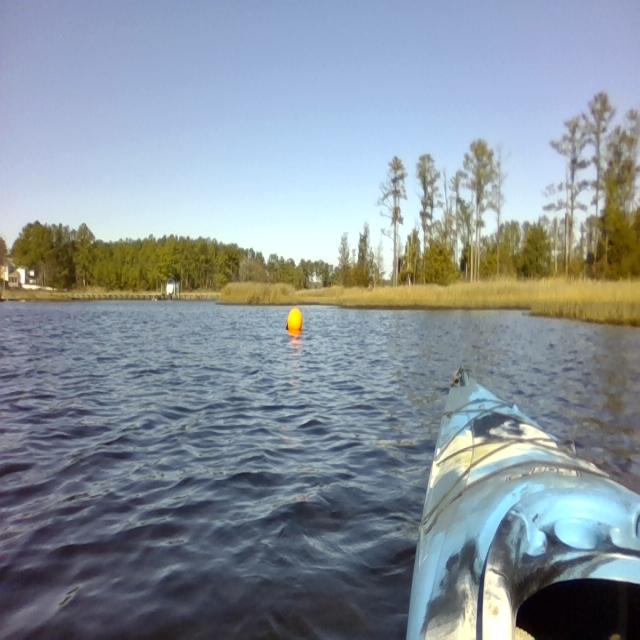Buoy: (279, 299, 309, 343)
